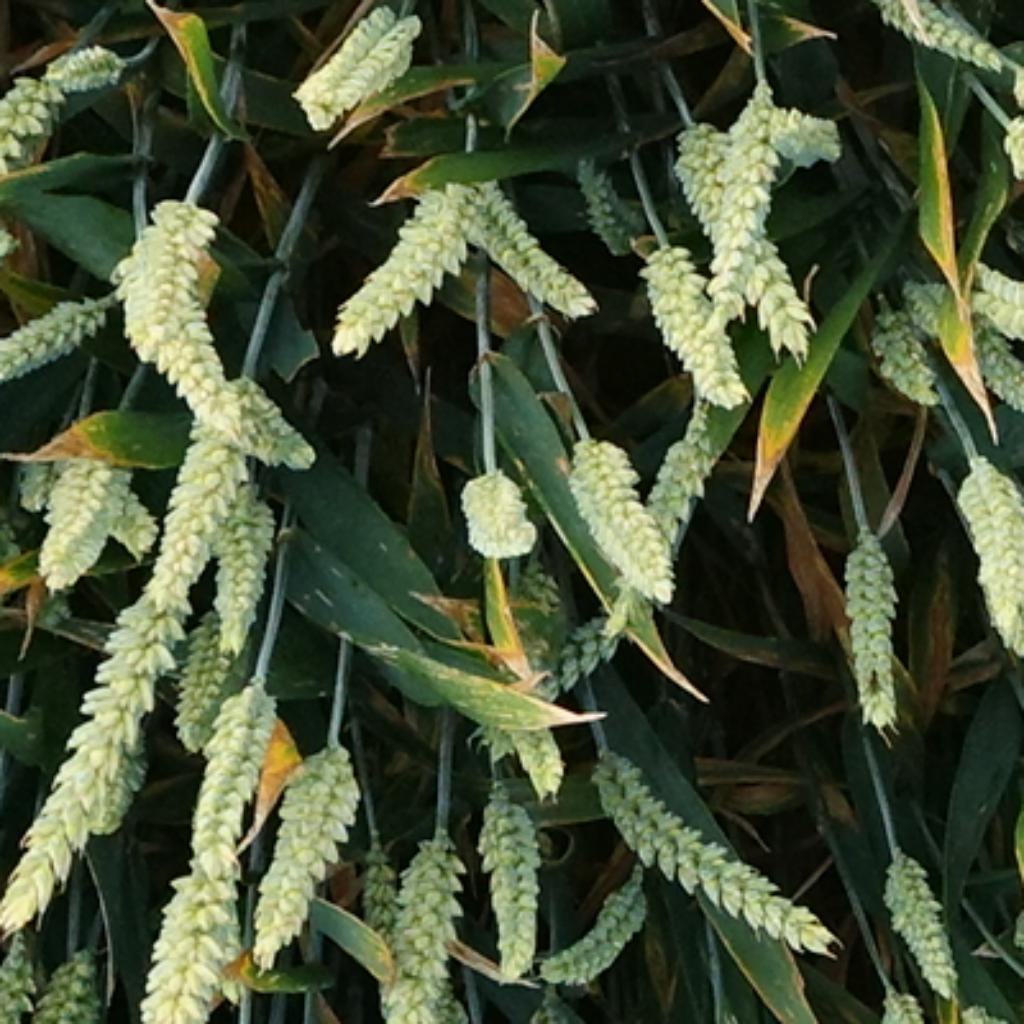0-0: (2, 545, 176, 936), (588, 739, 834, 960), (675, 107, 814, 363), (320, 174, 494, 360), (586, 419, 737, 622), (243, 729, 366, 970), (483, 568, 634, 760), (115, 240, 250, 440), (450, 166, 593, 325), (138, 821, 250, 1024), (148, 412, 256, 616), (693, 84, 778, 330), (632, 240, 752, 409), (558, 427, 670, 593), (189, 673, 276, 880), (291, 0, 424, 128), (476, 773, 555, 988), (377, 832, 464, 1024), (835, 532, 914, 739), (133, 197, 225, 368), (30, 458, 140, 588), (448, 698, 586, 801), (948, 462, 1024, 649), (542, 862, 657, 983), (872, 839, 962, 985), (209, 473, 281, 655), (204, 358, 314, 473), (2, 276, 120, 381), (166, 611, 243, 750), (860, 0, 1008, 71), (450, 465, 540, 565), (84, 711, 153, 839), (742, 89, 849, 166), (865, 299, 942, 404), (568, 151, 645, 248), (355, 824, 404, 975), (58, 496, 168, 558), (35, 935, 109, 1024), (961, 326, 1024, 417), (37, 41, 127, 103), (958, 247, 1023, 332), (0, 74, 54, 174), (2, 913, 40, 1024), (898, 268, 952, 343), (968, 286, 1023, 352), (870, 980, 934, 1024)
